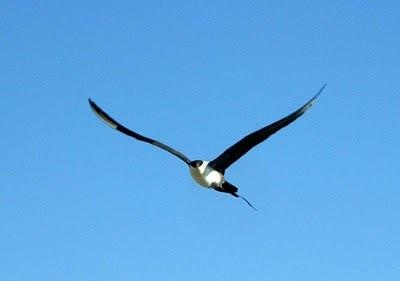bird: (84, 83, 329, 211)
